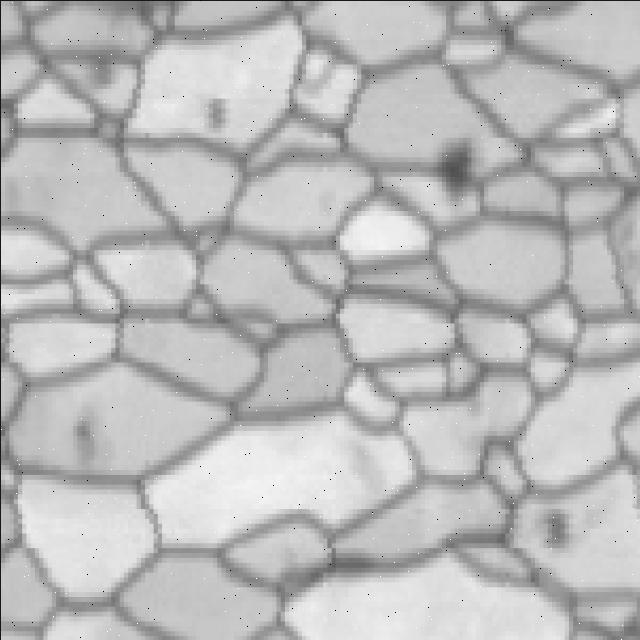good_void: (518, 498, 585, 565), (431, 128, 484, 212), (63, 415, 99, 472), (193, 94, 229, 137)
